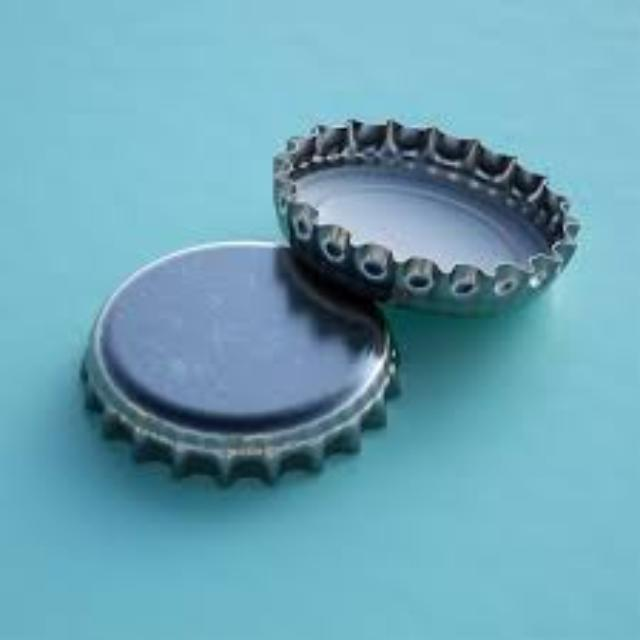Metal: (61, 228, 407, 502), (260, 103, 600, 381)
